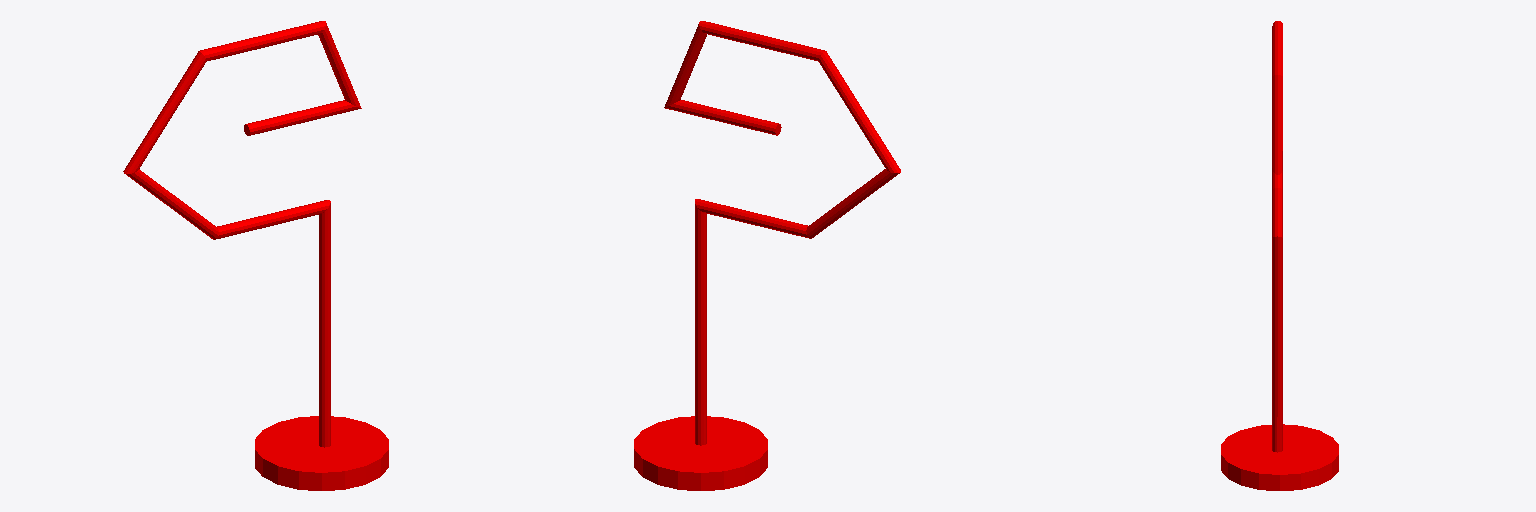
URDF robot description (ring):
<?xml version="0.0" ?>
<robot name="ring">
    <material name="white">
        <color rgba="1 0 0 1"/>
    </material>

    <link name="baseLink">
        <!-- from lego/lego.urdf -->
        <contact>
            <lateral_friction value="1.0"/>
            <rolling_friction value="0.0"/>
            <contact_cfm value="0.0"/>
            <contact_erp value="1.0"/>
        </contact>
        <inertial>
            <origin rpy="0 0 0" xyz="0 0 0"/>
            <mass value="0.01"/>
            <inertia ixx="1" ixy="0" ixz="0" iyy="1" iyz="0" izz="1"/>
        </inertial>
        <visual>
            <origin rpy="1.57 0 0" xyz="0 0 0"/>
            <geometry>
                <!--        radius: 10mm, depth: 14.5mm-->
                <mesh filename="meshes/e.obj" scale="1 1 1"/>
                <!--        <box size="0.002 0.002 0.002"/>-->
            </geometry>
            <material name="white"/>
        </visual>
        <collision>
            <origin rpy="1.57 0 0" xyz="0 0 0"/>
            <geometry>
                <mesh filename="meshes/e_vhacd.obj" scale="1 1 1"/>
                       <!-- <box size="2 2 2"/> -->
            </geometry>
        </collision>
    </link>
</robot>

--- What the picture shows (computed from the rendered views, not written in the file) ---
The picture shows the robot from 3 angles, left to right: view 1: azimuth 30°, elevation 25°; view 2: azimuth 150°, elevation 25°; view 3: azimuth 270°, elevation 25°; orthographic projection.
Model ring with 1 links and 0 joints (none), rooted at baseLink, posed all joints at 0.
Visible links, largest first — view 1: baseLink; view 2: baseLink; view 3: baseLink.
Boxes of the visible links, x1,y1,x2,y2 form: baseLink: (123, 21, 388, 490); baseLink: (634, 21, 900, 490); baseLink: (1221, 21, 1338, 490).
Bounding box of the posed robot: 0.0689 × 0.031 × 0.1129 m (x, y, z).
Meshes: 1 distinct files referenced, 1 mesh visuals loaded (1 OBJ).